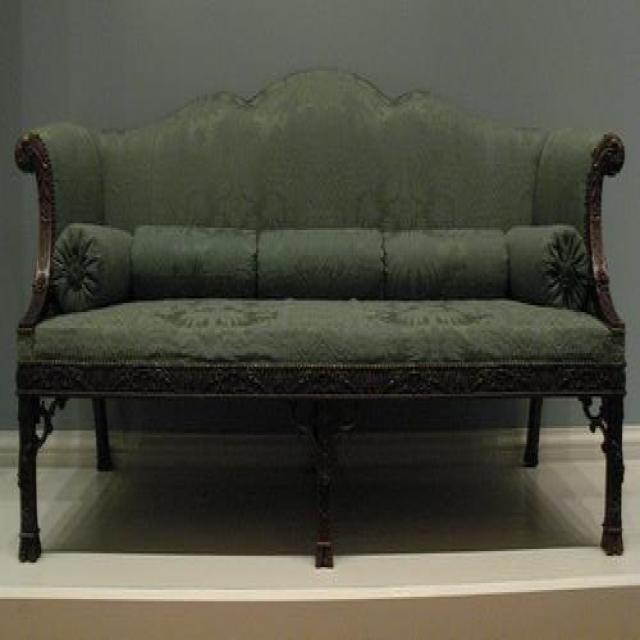sofa: (8, 69, 628, 561)
